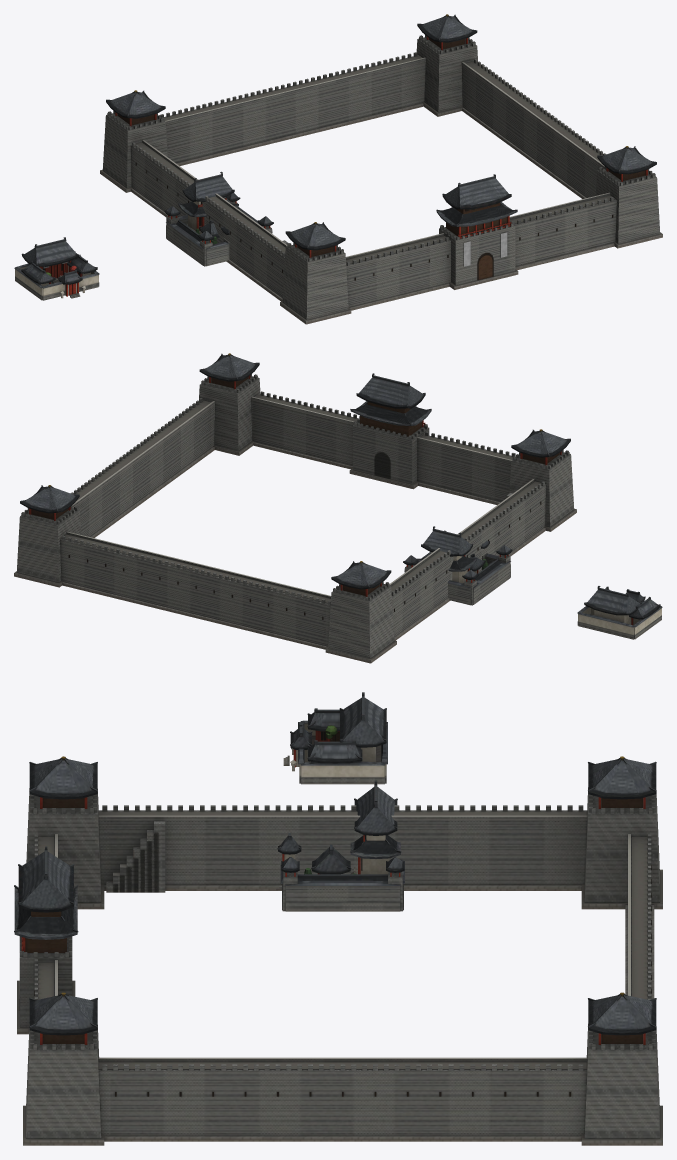
Rendered from shared-kingdoms-sinic-5bd9da7d.glb.
3 views of the same model, one above another, from view 1: azimuth 30°, elevation 25°; view 2: azimuth 150°, elevation 25°; view 3: azimuth 270°, elevation 25° (orthographic). The views are drawn at different scales.
Parts seen in each view (by area): view 1: LOD0.002, LOD0.001, LOD0; view 2: LOD0.002, LOD0.001, LOD0; view 3: LOD0.002, LOD0.001, LOD0.
Boxes of the visible parts, x1,y1,x2,y2 form: LOD0.002: [100, 14, 662, 324]; LOD0.001: [164, 171, 273, 266]; LOD0: [14, 237, 99, 300]; LOD0.002: [14, 353, 576, 663]; LOD0.001: [403, 526, 512, 605]; LOD0: [577, 586, 662, 639]; LOD0.002: [14, 756, 662, 1145]; LOD0.001: [276, 780, 404, 911]; LOD0: [283, 692, 387, 784].
Size of what is drawn, in the model's own units: 9.85 by 1.71 by 6.69.
3 materials, 3 textured.
